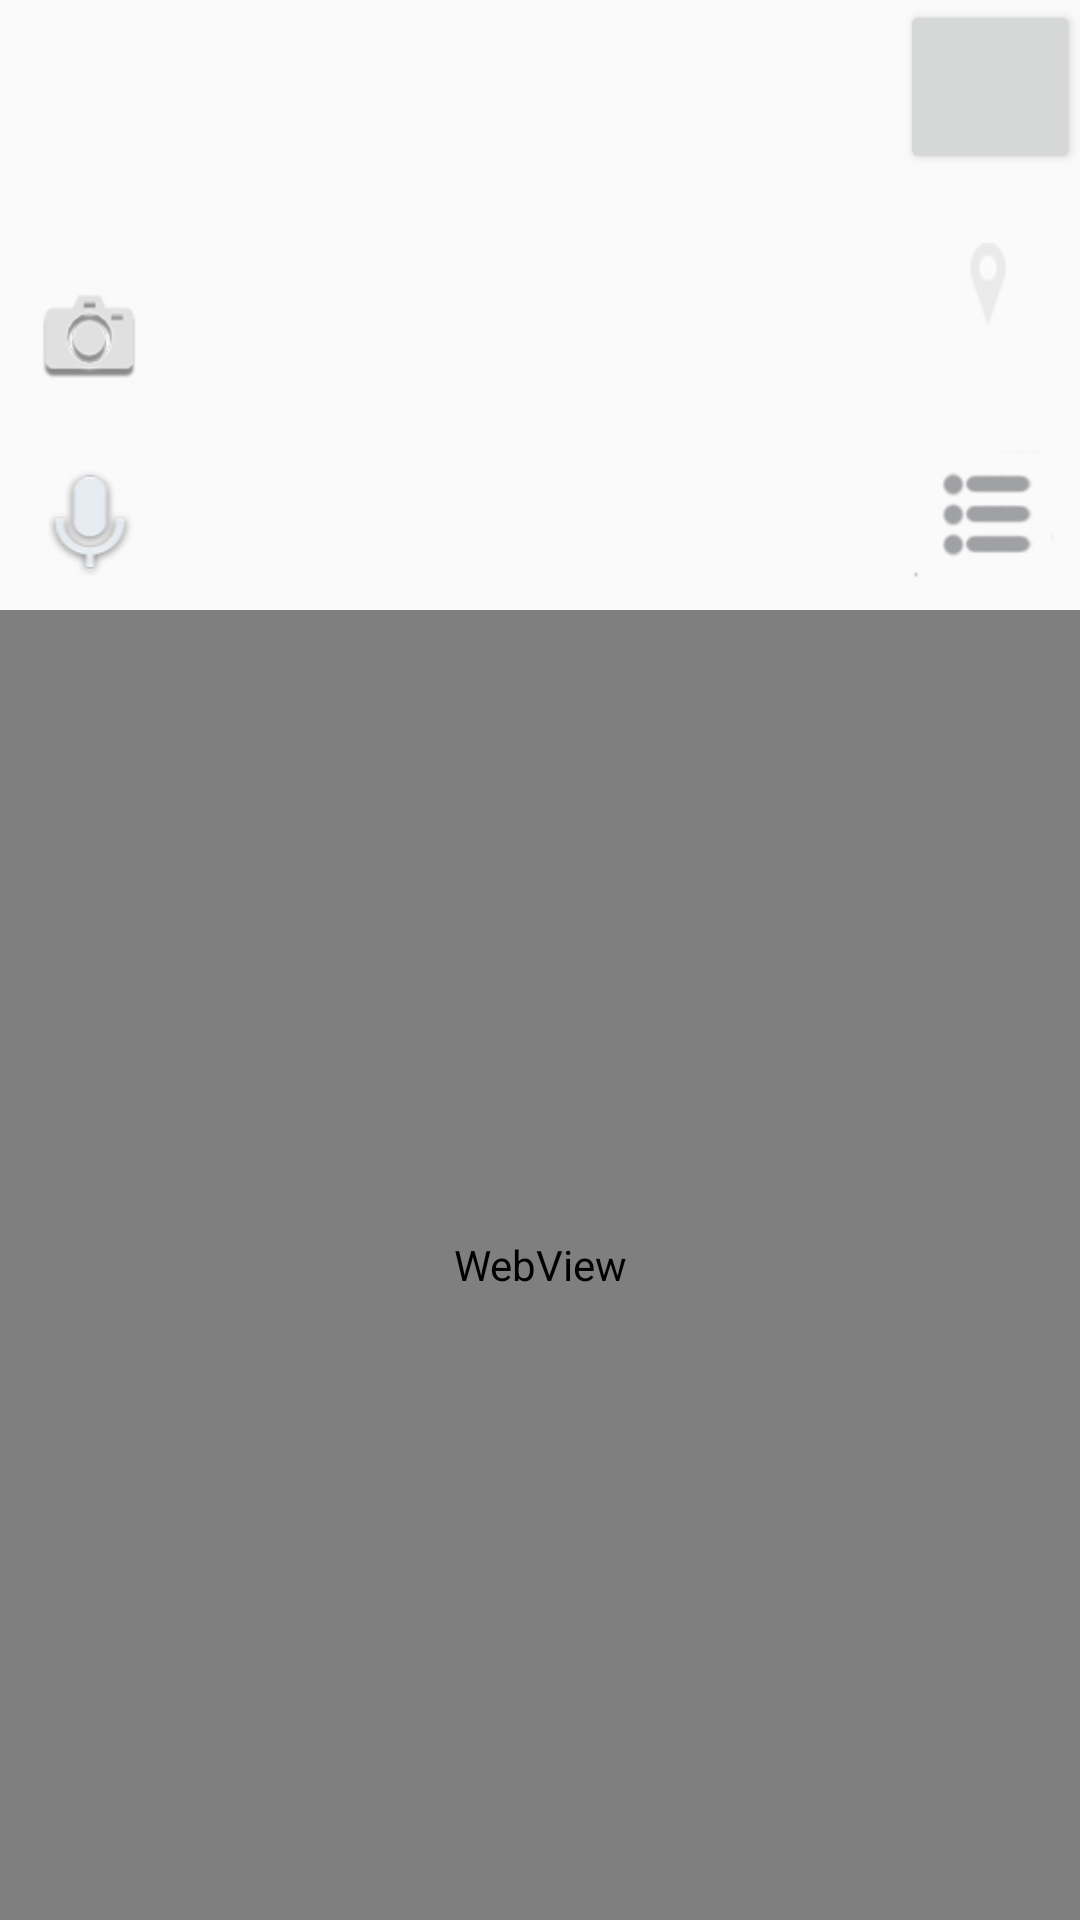

Where icons sit on this 1080px x 1920px app screen, as Rect(x1, y1, x2, y2):
camera: Rect(44, 297, 135, 377)
list: Rect(914, 474, 1031, 576)
mic: Rect(52, 475, 128, 570)
